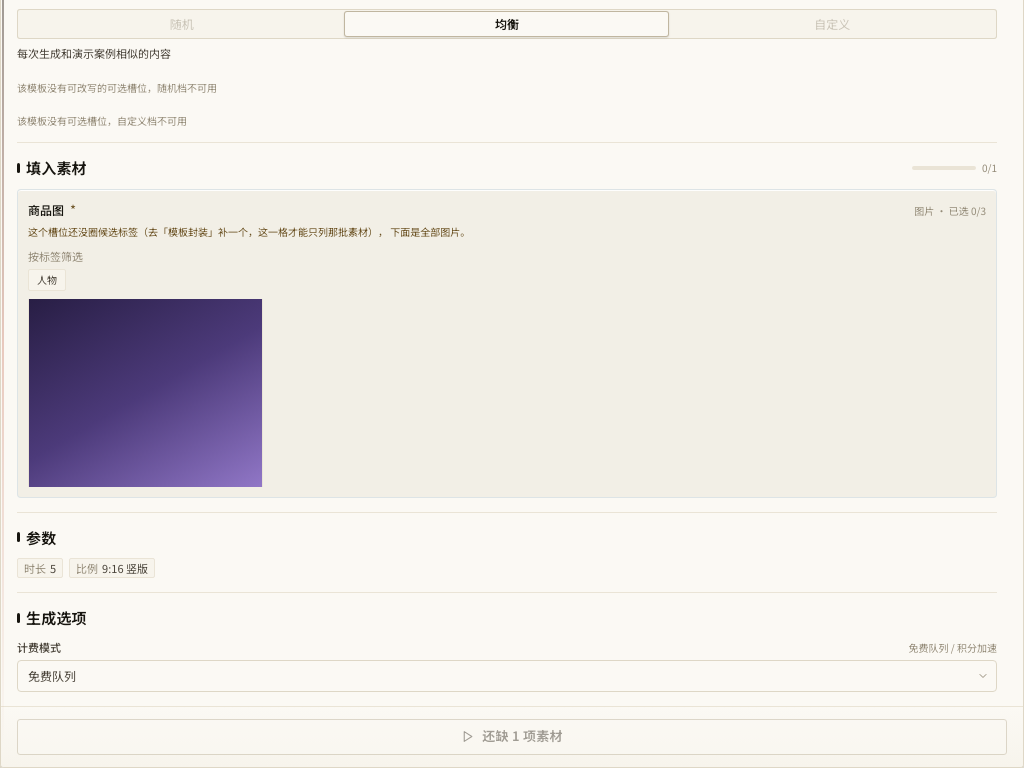
Test: 模板库：生成前的二次确认 › 点「生成视频」先弹确认框，此时还没提交任何东西
(page scrolled)
Click the button titled "商品图.png". click: (145, 393)
box: [28,276,262,510]
(page scrolled)
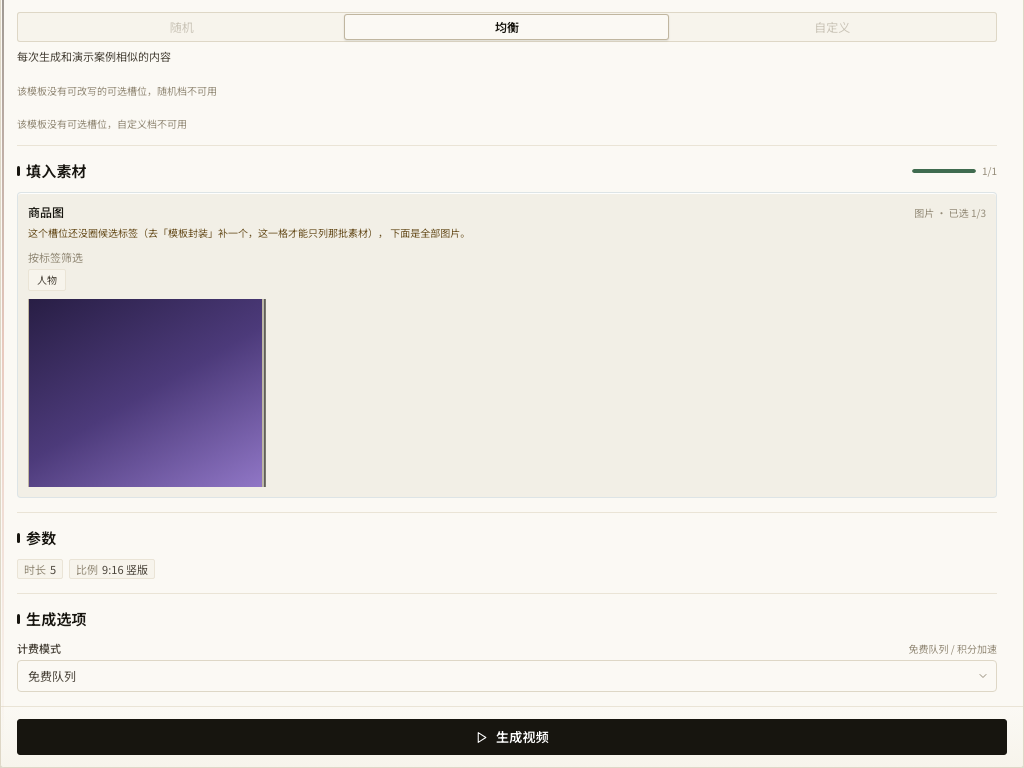
Click the button "生成视频". click: (512, 737)
box: [17,719,1007,755]
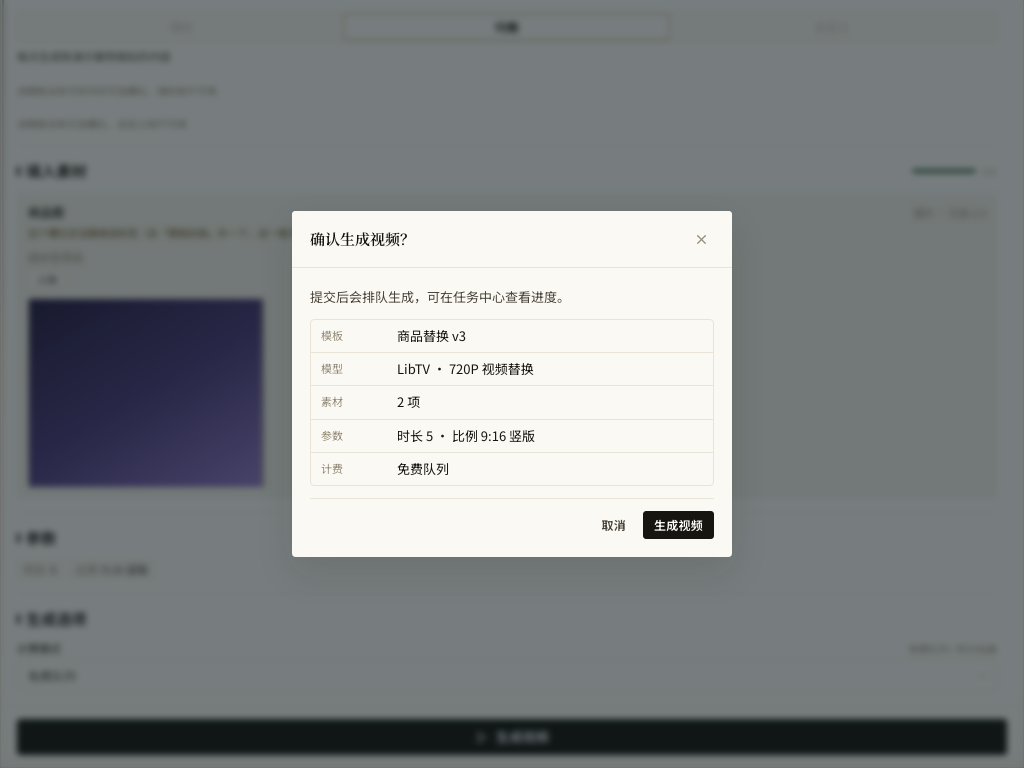
Now the dialog is shown, box [292,211,732,557]
Now the text "确认生成视频？" is shown, box [310,228,415,250]
